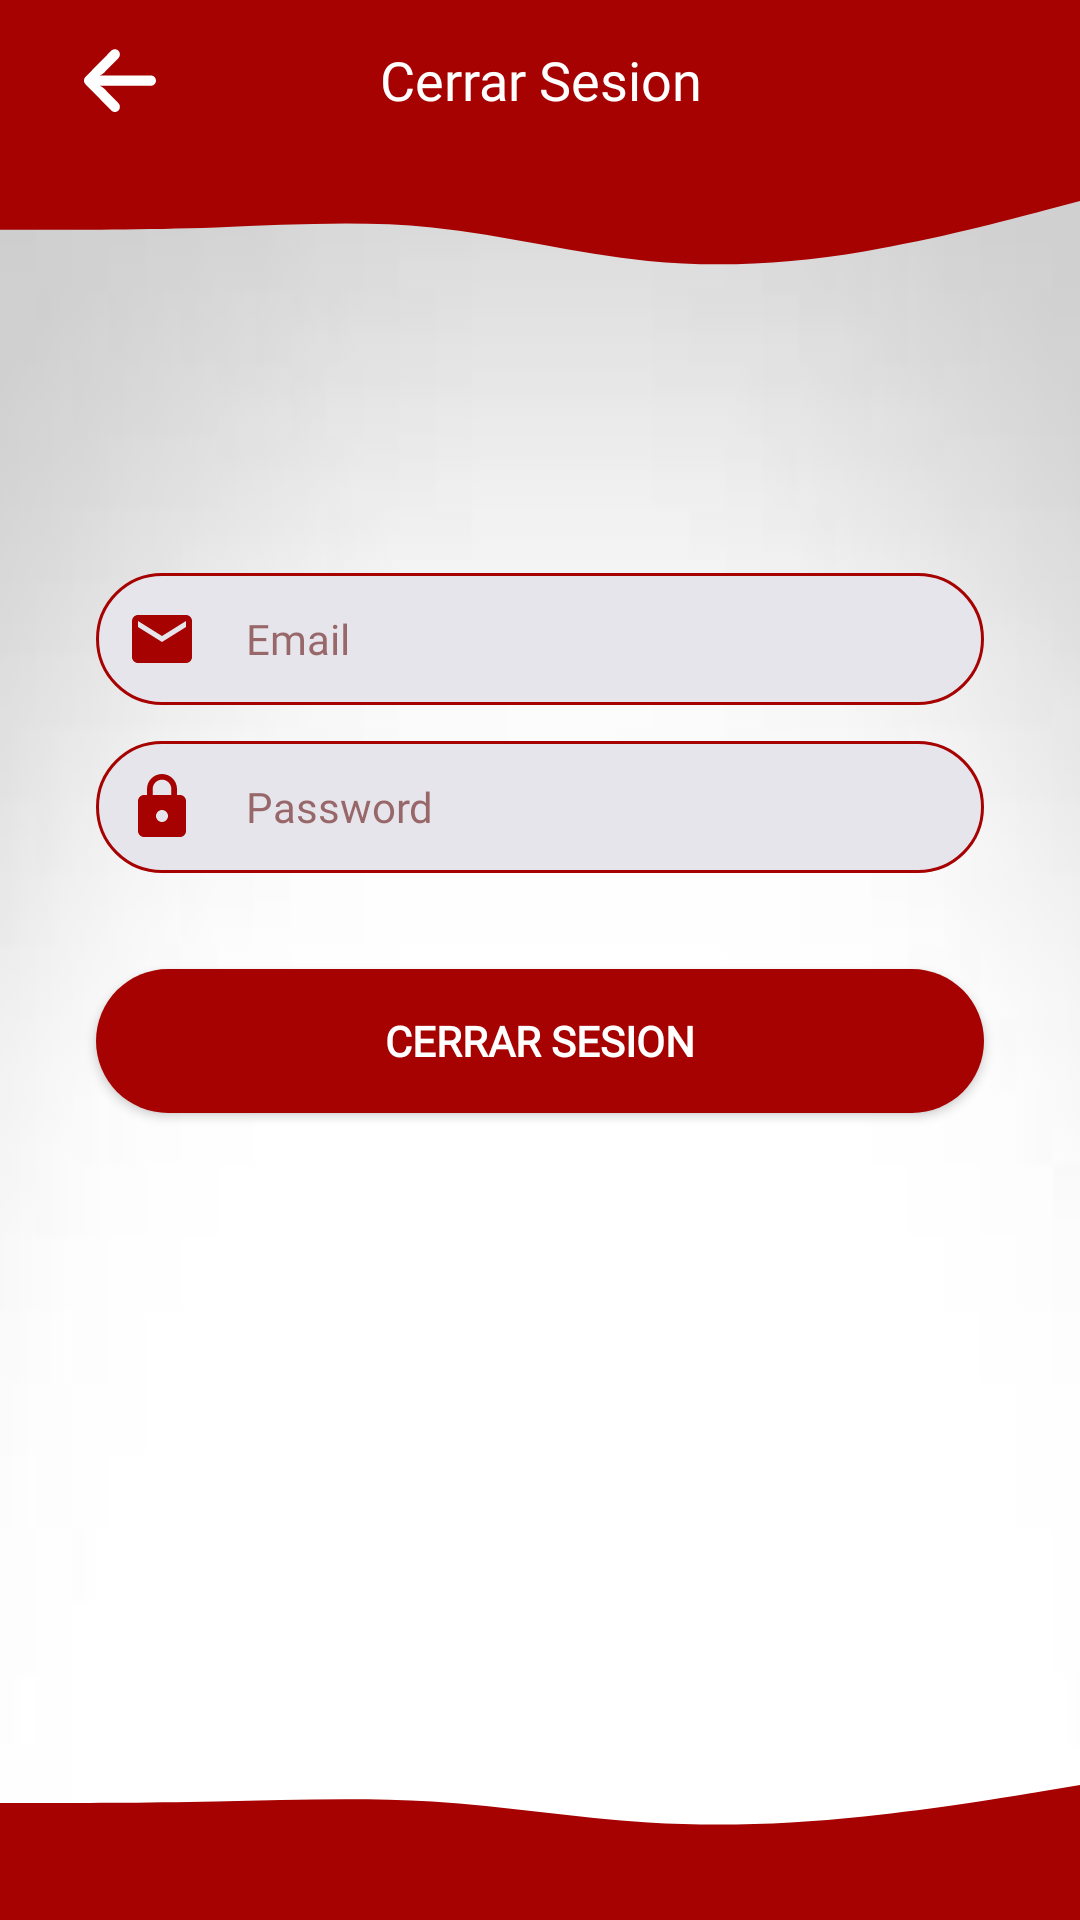

Icons on this 1080×1920 Android screen, each with its box as (x1, y1, x2, y2):
flecha: (84, 49, 156, 112)
